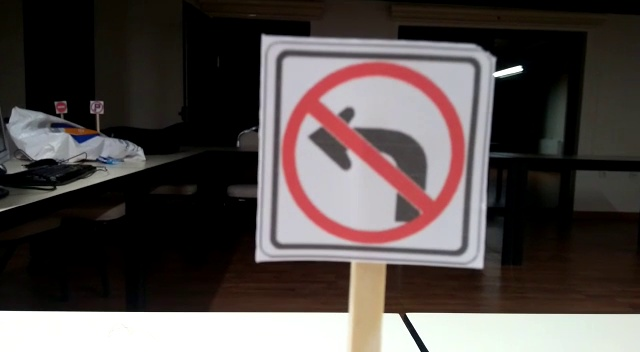sola_donulmez: (267, 49, 493, 252)
